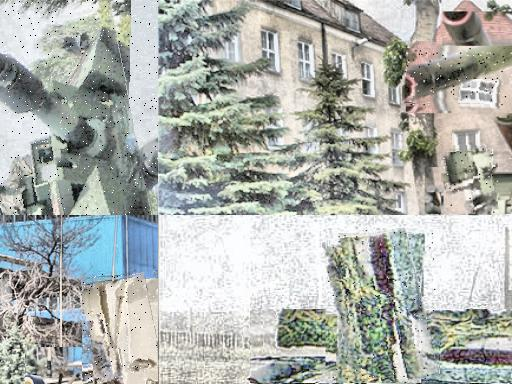tanks: (1, 31, 152, 216), (327, 231, 439, 384), (83, 275, 159, 384), (403, 50, 512, 106), (443, 146, 499, 216)
